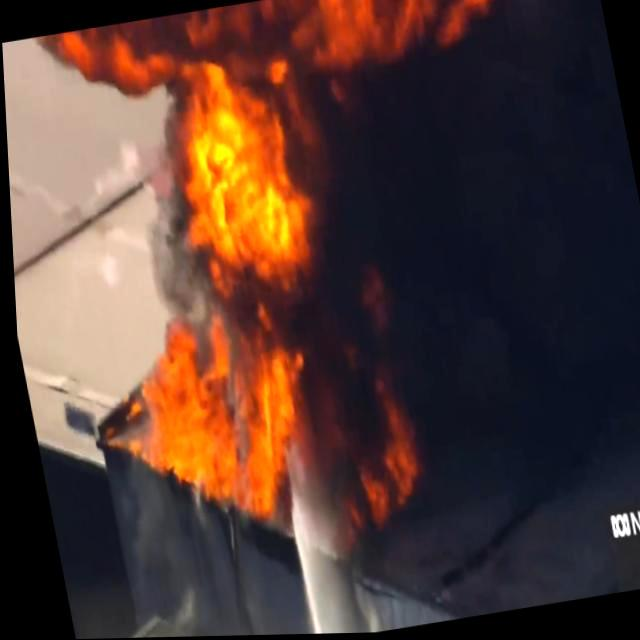fire: (158, 51, 338, 309), (127, 318, 329, 514), (290, 0, 512, 76)
